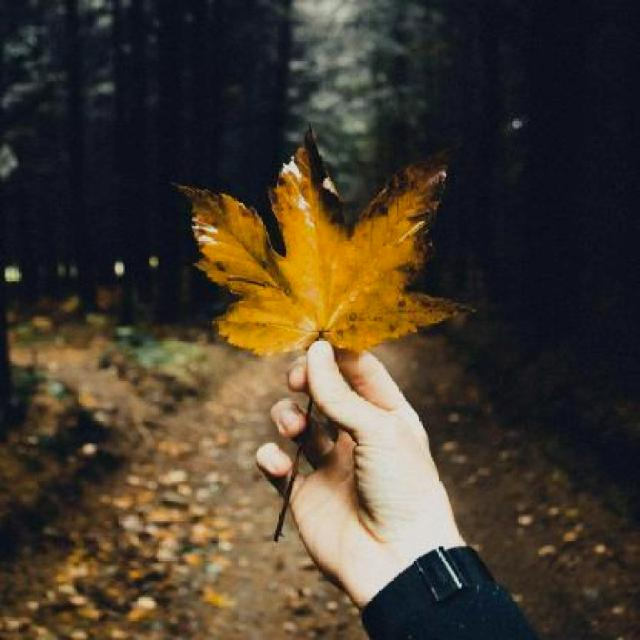hand_noglove: (256, 337, 456, 598)
